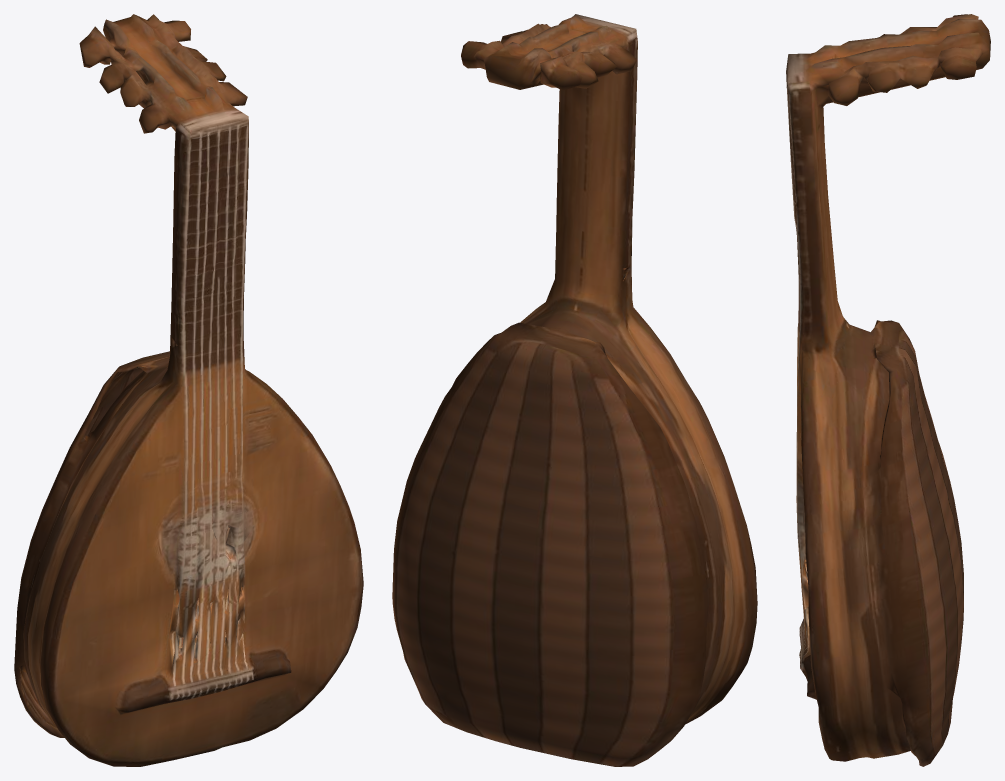
Rendered from lute.glb.
3 views of the same model, side by side, from view 1: azimuth 30°, elevation 25°; view 2: azimuth 150°, elevation 25°; view 3: azimuth 270°, elevation 25° (orthographic). The views are drawn at different scales.
Parts seen in each view (by area): view 1: lute; view 2: lute; view 3: lute.
Part boxes in pixels (x1,y1,x2,y2): lute: (14,14,363,766); lute: (392,14,757,766); lute: (786,14,990,766).
Bounding box in the file's own units: 0.3725 × 0.7831 × 0.2055.
Materials: 1 (1 with a texture image).
